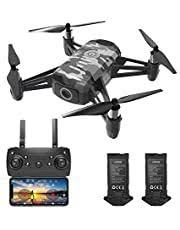drone: (0, 11, 180, 140)
